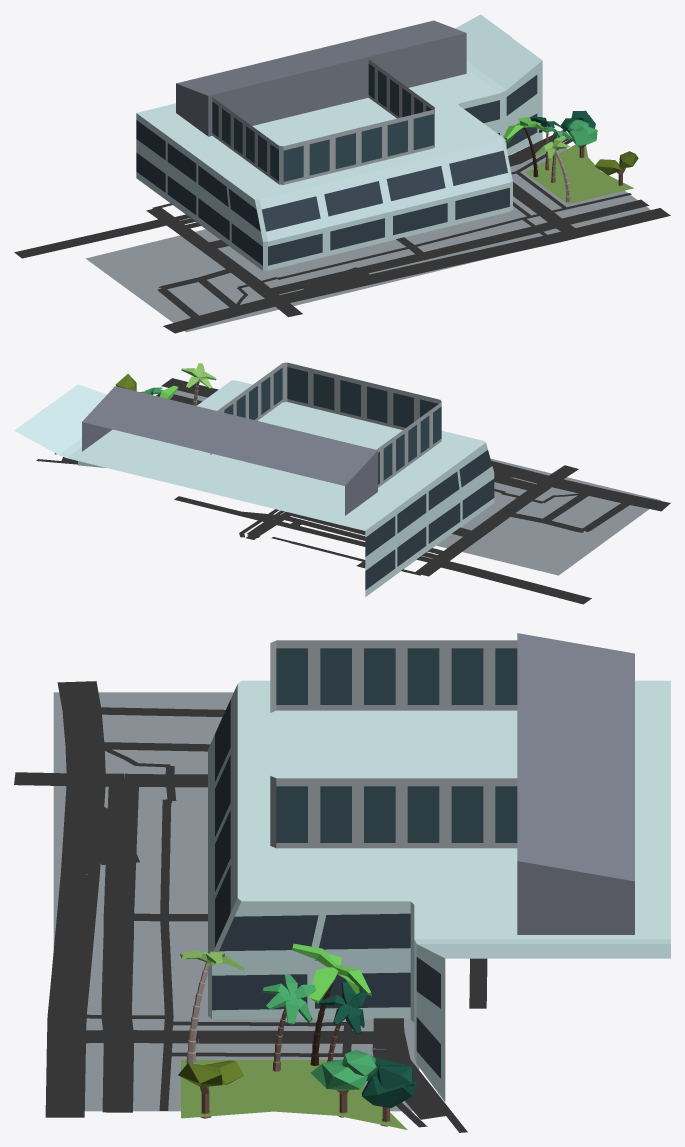
Rendered from PY_Env4.fbx.
3 renders of one model, top to bottom at view 1: azimuth 30°, elevation 25°; view 2: azimuth 150°, elevation 25°; view 3: azimuth 270°, elevation 25°, orthographic. The views are drawn at different scales.
Visible parts, largest first — view 1: PY_Env4; view 2: PY_Env4; view 3: PY_Env4.
Part boxes in pixels (left/top/right/bottom): PY_Env4: left=14, top=14, right=670, bottom=333; PY_Env4: left=14, top=362, right=670, bottom=604; PY_Env4: left=14, top=633, right=670, bottom=1132.
Size of the model in its own units: 9246 by 1737 by 5305.
